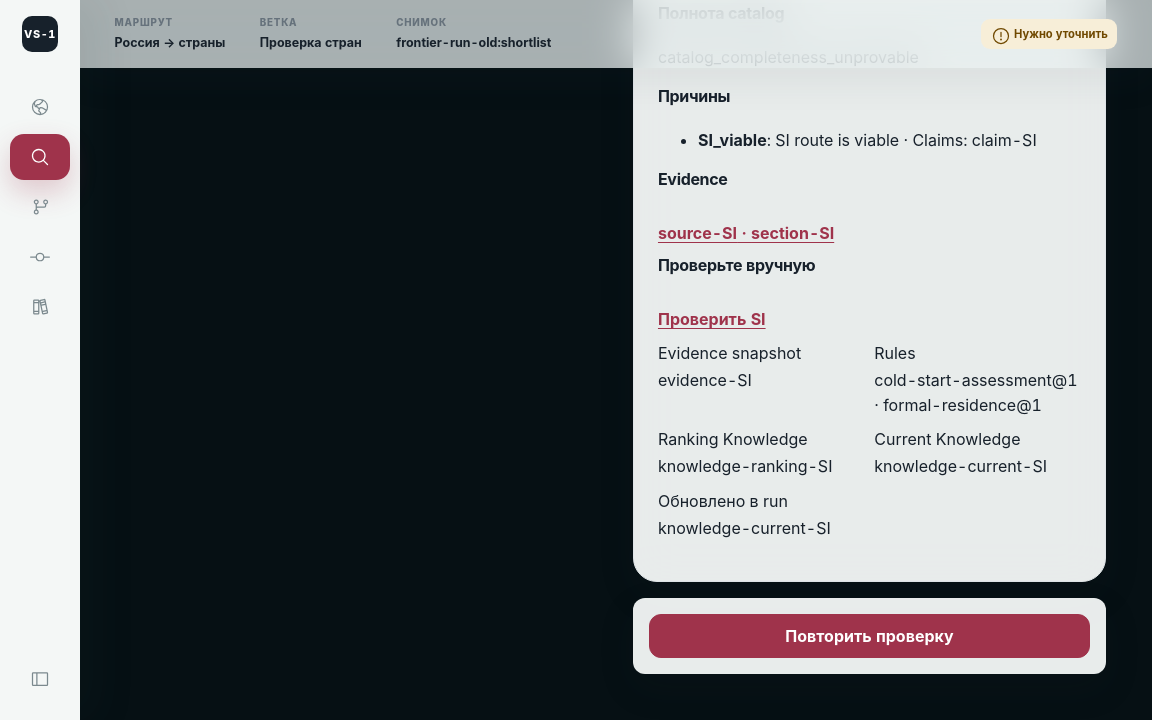
Test: place-frontier journey lifecycle › preserves the stored result until strict retry open, then changes URL before reading
(page scrolled)
Step 1. Click the button "Повторить проверку" → (870, 636), box [649,614,1090,658]
(page scrolled)
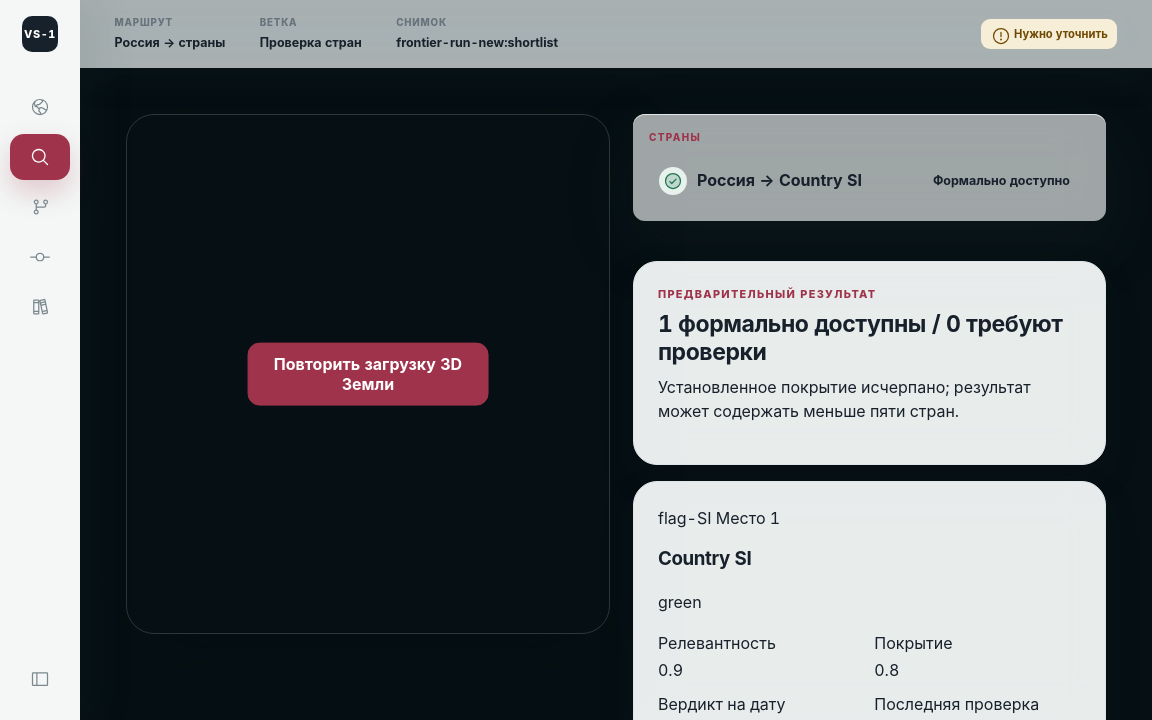
expect the heading "1 формально доступны / 0 требуют проверки" is shown: met, box [658,311,1081,367]
expect the text "frontier-run-new:shortlist" is shown: met, box [396,34,558,53]
